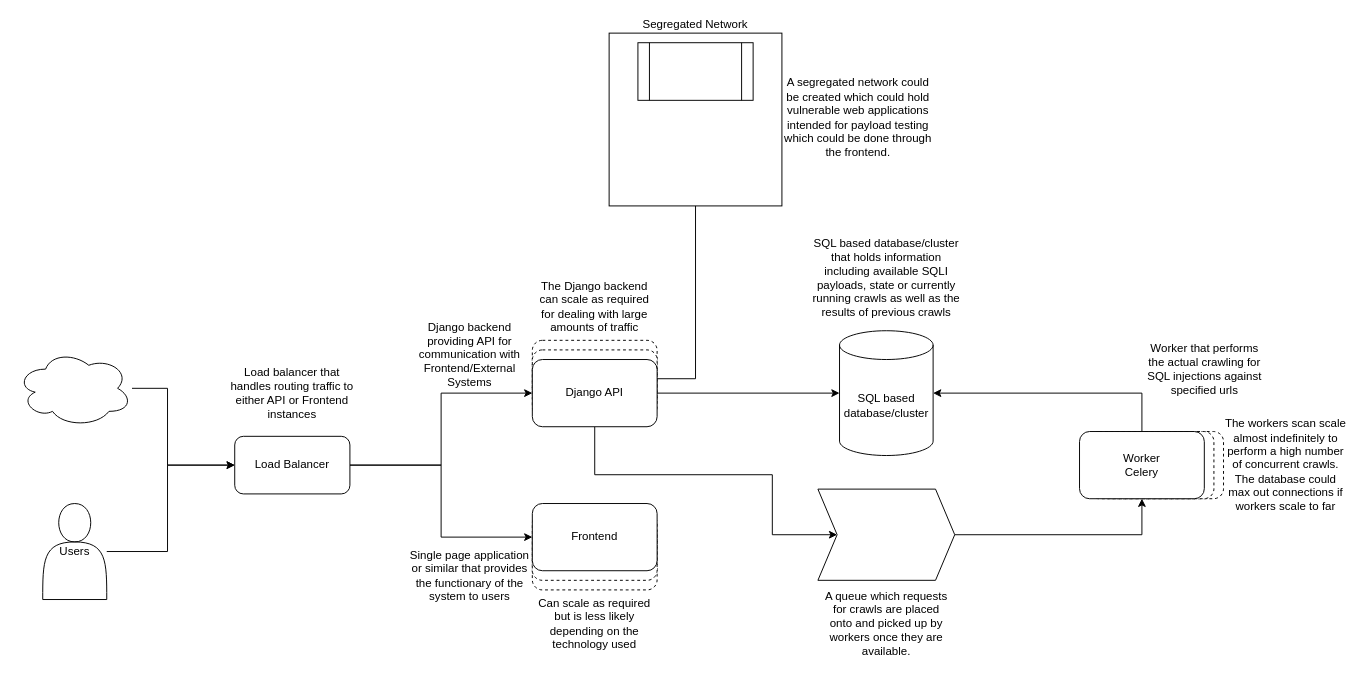
Some shapes in this 1365 by 683 pixel diagram are drawn without their labels. Here are the shapes that lost their labels. From the top down, the centre of each, then its label:
At point (695, 71): "DVWA Docker Container".
At point (74, 388): "External Services".
At point (886, 534): "Queue Redis/RabbitMQ".
